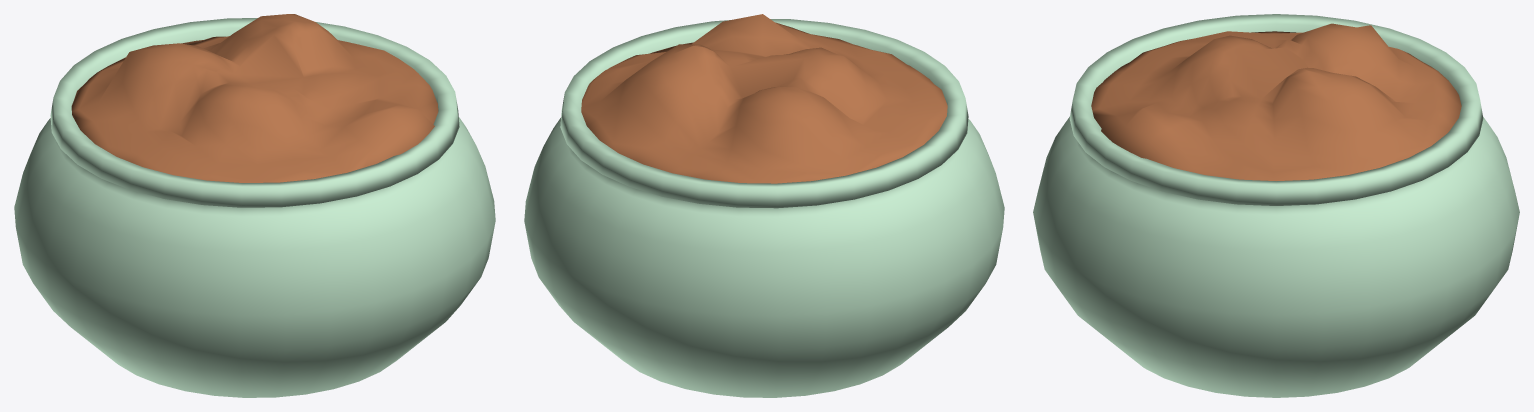
The model's file is pot_green.glb.
3 views of the same model, side by side, from view 1: azimuth 30°, elevation 25°; view 2: azimuth 150°, elevation 25°; view 3: azimuth 270°, elevation 25° (orthographic).
Visible parts, largest first — view 1: 圆环.005, 泥土.006; view 2: 圆环.005, 泥土.006; view 3: 圆环.005, 泥土.006.
Part boxes in pixels (box(x1,y1,x2,y2)): 圆环.005: box(14, 18, 495, 397); 泥土.006: box(71, 14, 438, 182); 圆环.005: box(524, 19, 1004, 397); 泥土.006: box(581, 14, 947, 183); 圆环.005: box(1033, 14, 1519, 397); 泥土.006: box(1091, 23, 1461, 180).
Size of the model in its own units: 0.8036 by 0.5225 by 0.8036.
